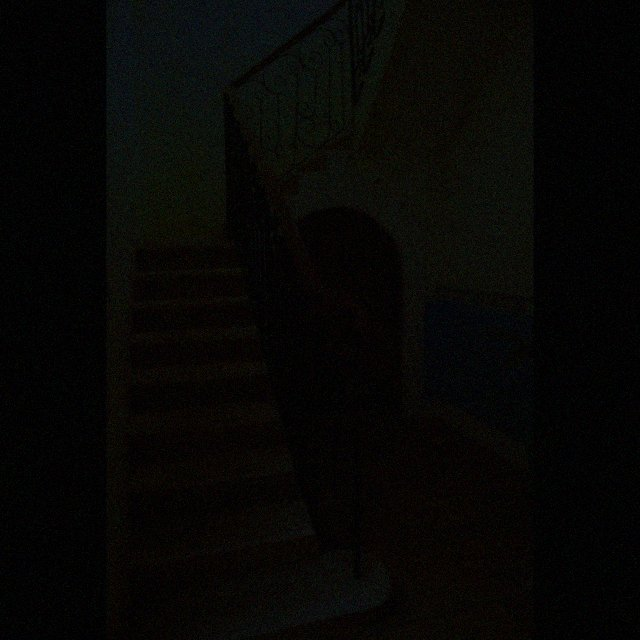stair: (127, 243, 391, 639)
